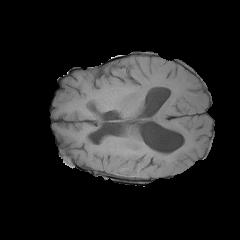glioma: (84, 134, 191, 175)
